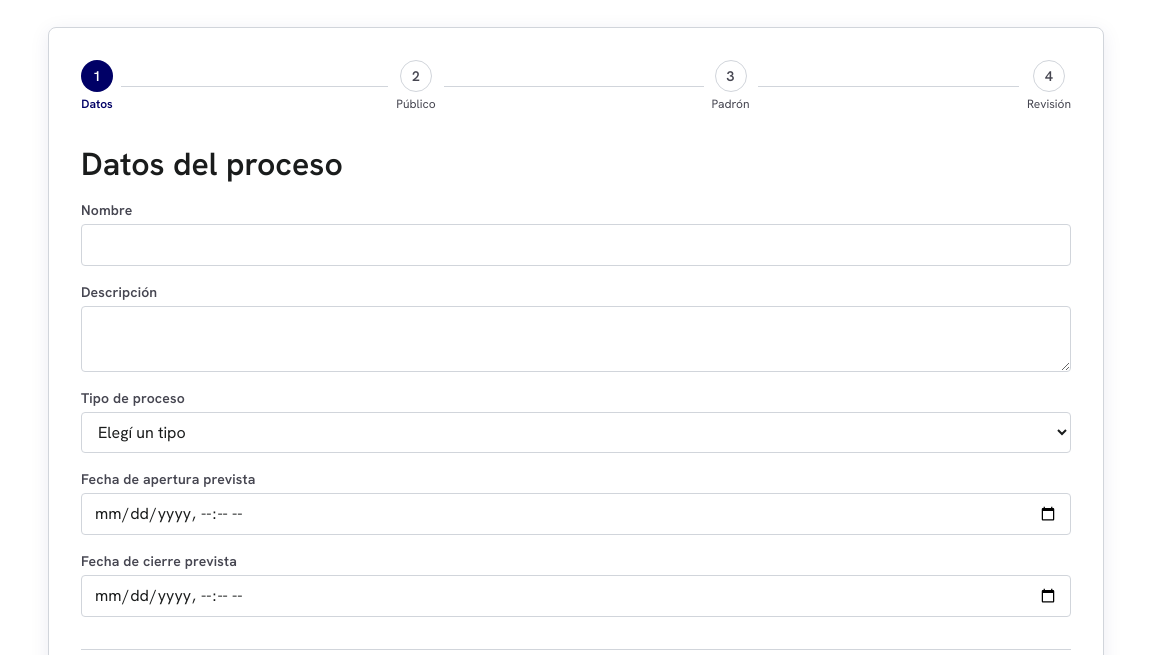
Test case: ProcesoWizardPage › municipio sí ofrece la opción institución en el paso 2
Type "Elección municipal" into the field labelled "Nombre" at (576, 245), box [81, 224, 1071, 266]
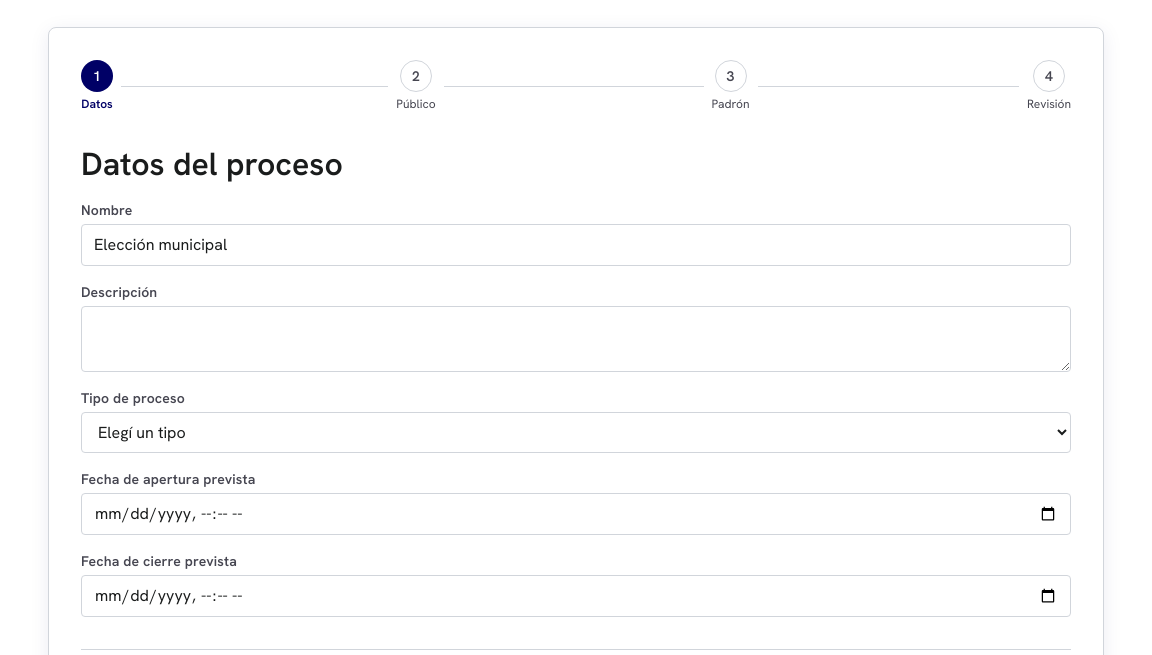
Select "Municipio escolar" in the dropdown labelled "Tipo de proceso" at (576, 432), box [81, 412, 1071, 453]
(page scrolled)
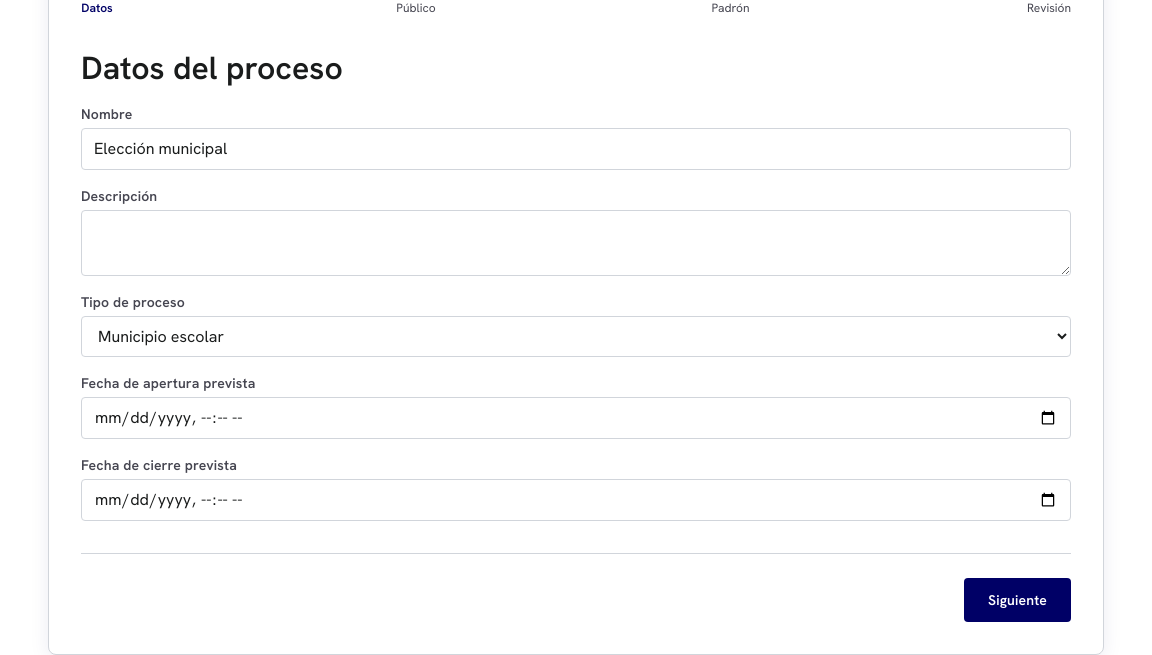
Click the button "Siguiente" at (1018, 600), box [964, 578, 1071, 622]
(page scrolled)
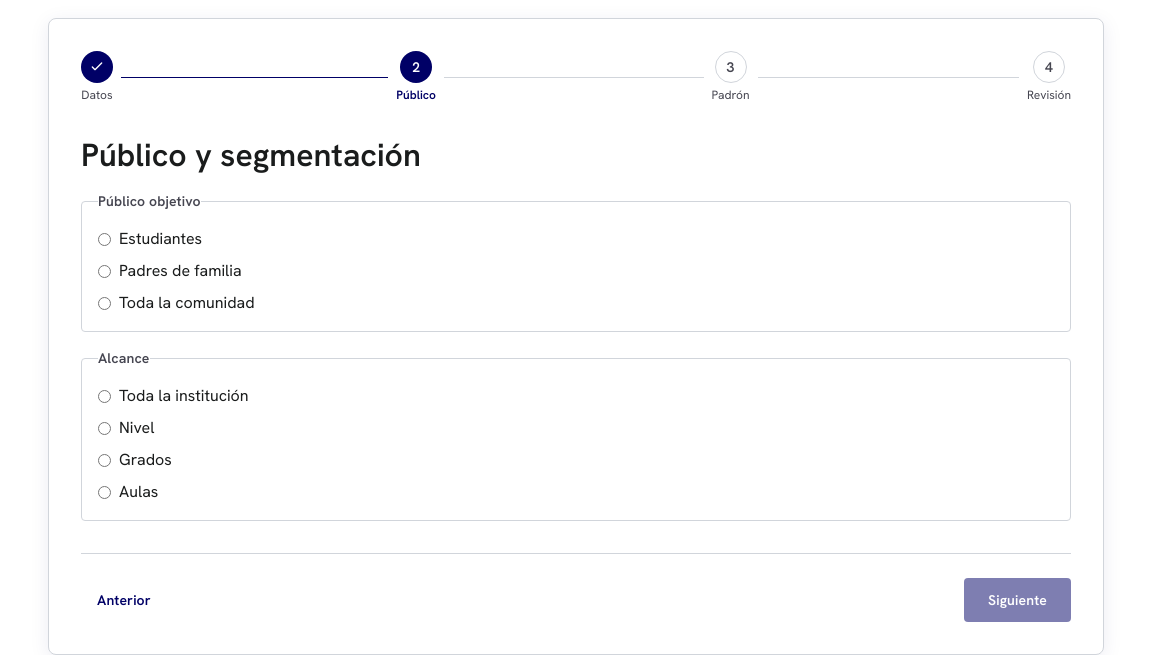
Now the radio button labelled "Toda la institución" is shown, box [98, 390, 111, 402]
